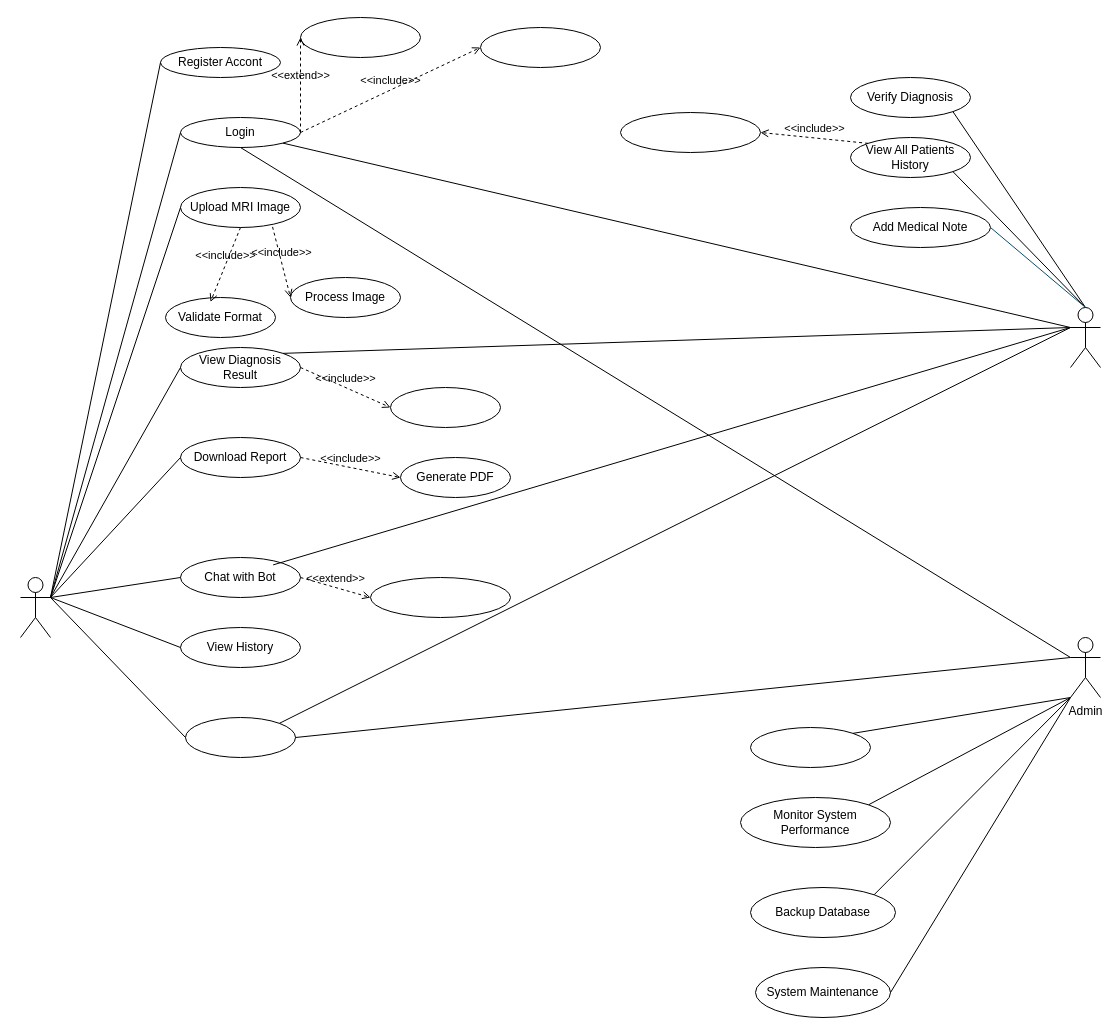
Some shapes in this 1120 by 1035 pixel diagram are drawn without their labels. The shapes that lost their labels are listed below. From the top down, each one's box as (x1, y1, x2, y2) in pixels, then its label:
(300, 16, 420, 58): Reset Password
(480, 26, 600, 68): Verify Credentials
(620, 112, 760, 152): View Patient Details
(1070, 306, 1100, 368): Doctor
(390, 386, 500, 428): Classify Tumor
(20, 576, 50, 638): Patient
(370, 576, 510, 618): Get Recommendations
(184, 716, 296, 758): Logout
(750, 726, 870, 768): Manage Users
